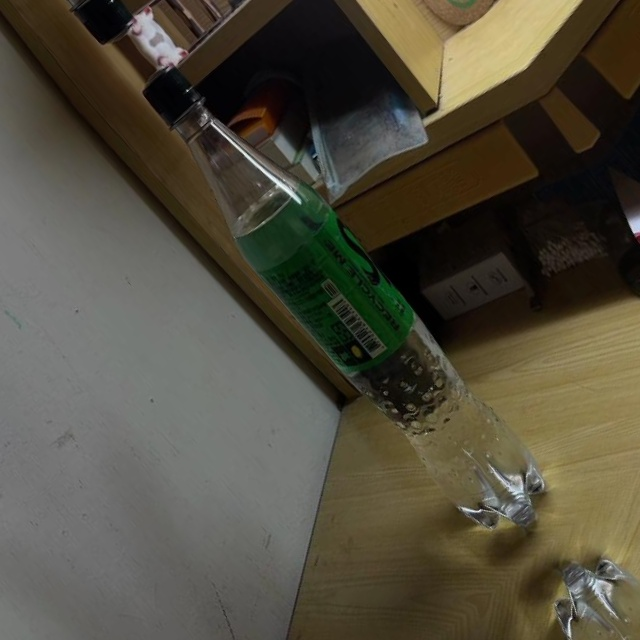Sprite: (119, 45, 569, 554)
